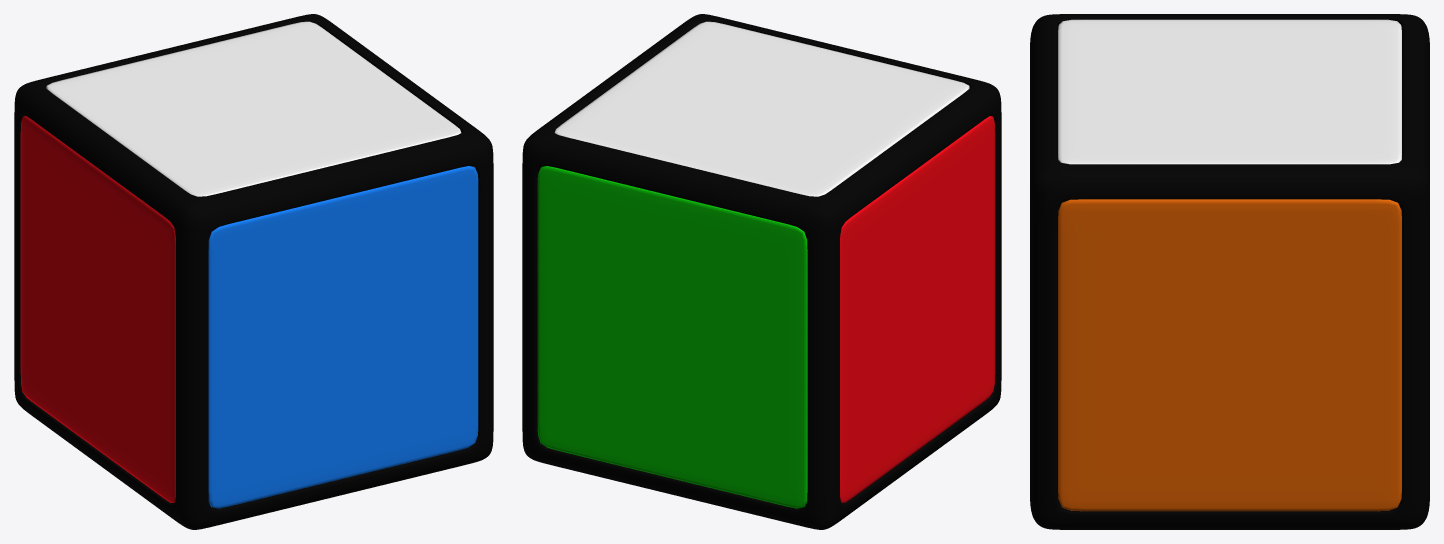
The model's file is piece.fbx.
3 renders of one model, left to right at view 1: azimuth 30°, elevation 25°; view 2: azimuth 150°, elevation 25°; view 3: azimuth 270°, elevation 25°, orthographic. The views are drawn at different scales.
Parts seen in each view (by area): view 1: Cubo; view 2: Cubo; view 3: Cubo.
Part boxes in pixels (x1,y1,x2,y2): Cubo: [14, 14, 493, 529]; Cubo: [522, 14, 1001, 529]; Cubo: [1030, 14, 1429, 529].
Size of the model in its own units: 200 by 200 by 200.
